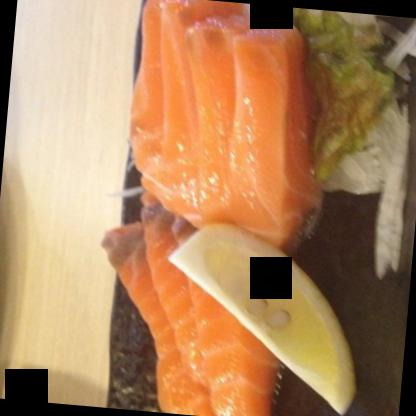salmon: (123, 0, 325, 250), (97, 219, 297, 415)
